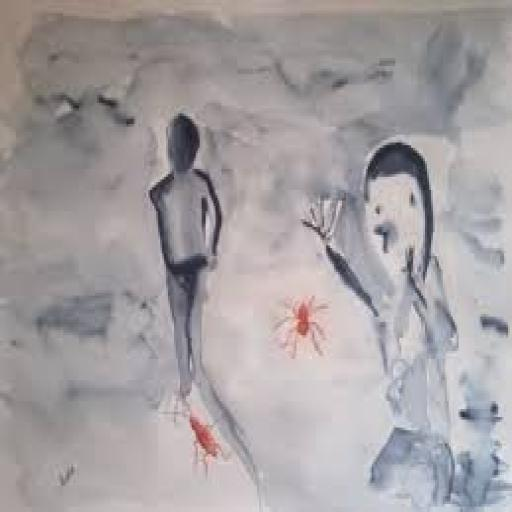person: (298, 130, 484, 500), (138, 100, 242, 411)
